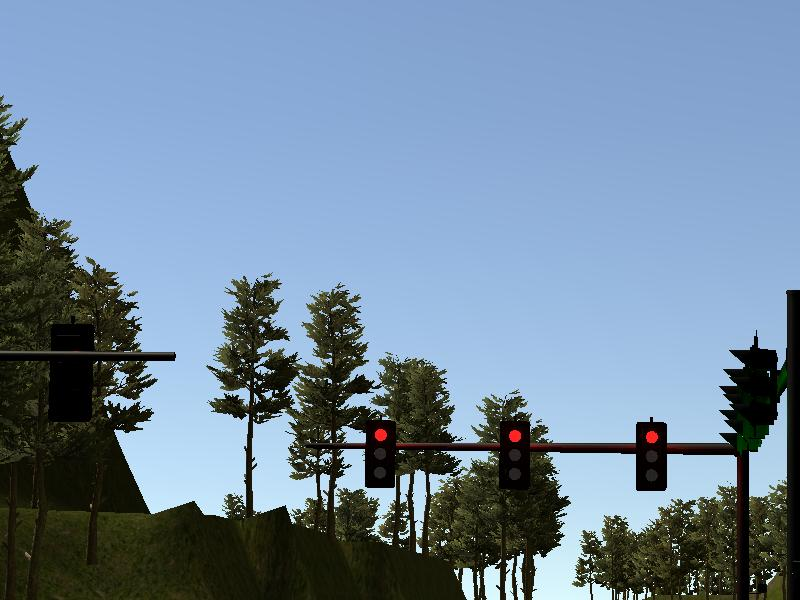Red: (501, 421, 531, 490), (636, 422, 666, 491), (365, 421, 394, 487)
